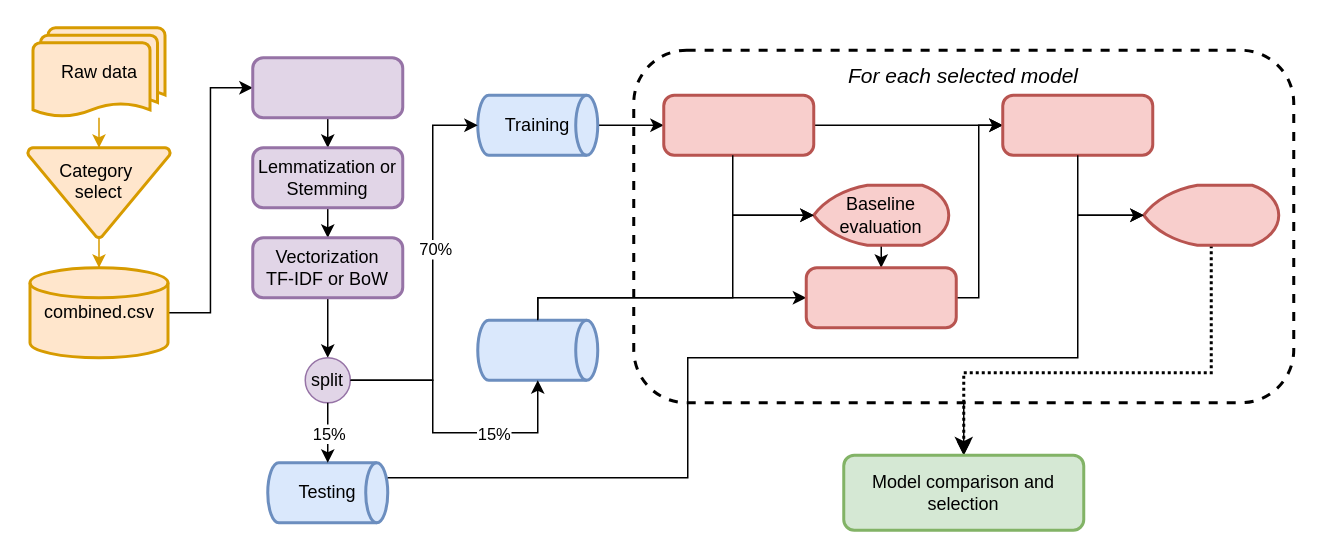
The diagram is 1320 pixels wide and 557 high, and some of its shapes have lost their labels. Each missing label, with the centre of its shape:
Baseline Model: (x=738, y=124)
Final Evaluation: (x=1211, y=214)
Final Model: (x=1077, y=124)
Hyperparameter Tuning: (x=880, y=297)
Stop word removal: (x=327, y=87)
Validation: (x=537, y=349)
